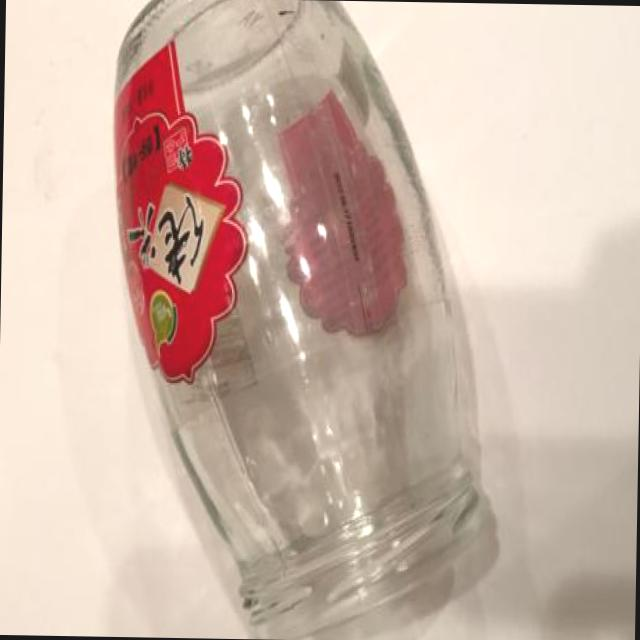chai_thuy_tinh: (116, 0, 498, 640)
